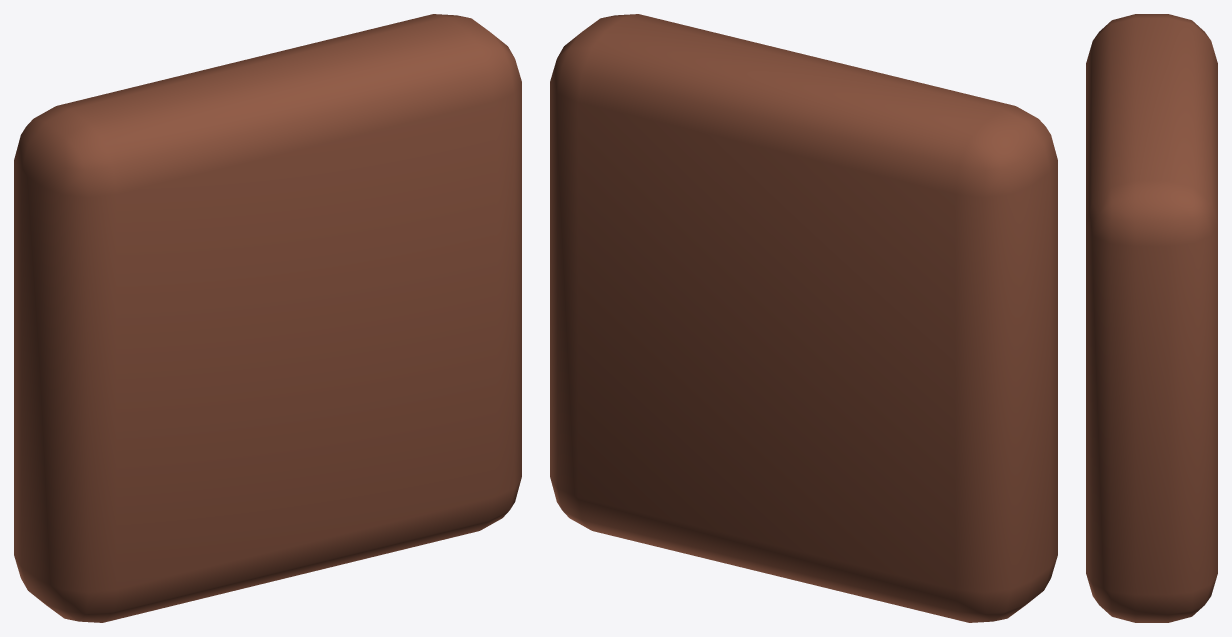
Rendered from cushion_square.glb.
3 renders of one model, left to right at view 1: azimuth 30°, elevation 25°; view 2: azimuth 150°, elevation 25°; view 3: azimuth 270°, elevation 25°, orthographic. The views are drawn at different scales.
Parts seen in each view (by area): view 1: cushion_square; view 2: cushion_square; view 3: cushion_square.
Part boxes in pixels (<box>): cushion_square: <box>14,14,521,622</box>; cushion_square: <box>550,14,1057,622</box>; cushion_square: <box>1086,14,1217,622</box>.
Size of the model in its own units: 0.44 by 0.44 by 0.12.
